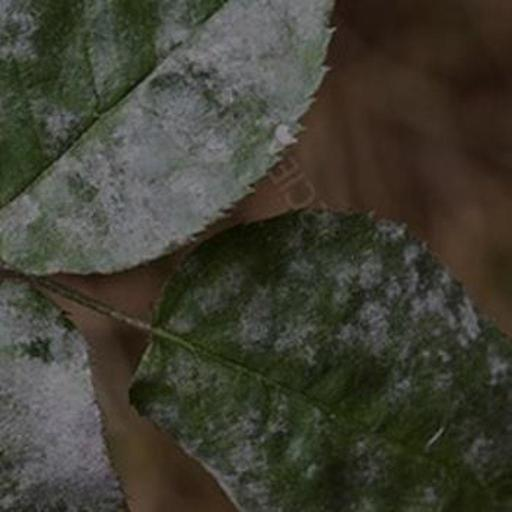powdery_mildew: (131, 211, 512, 511), (0, 0, 333, 274), (0, 280, 124, 512)
